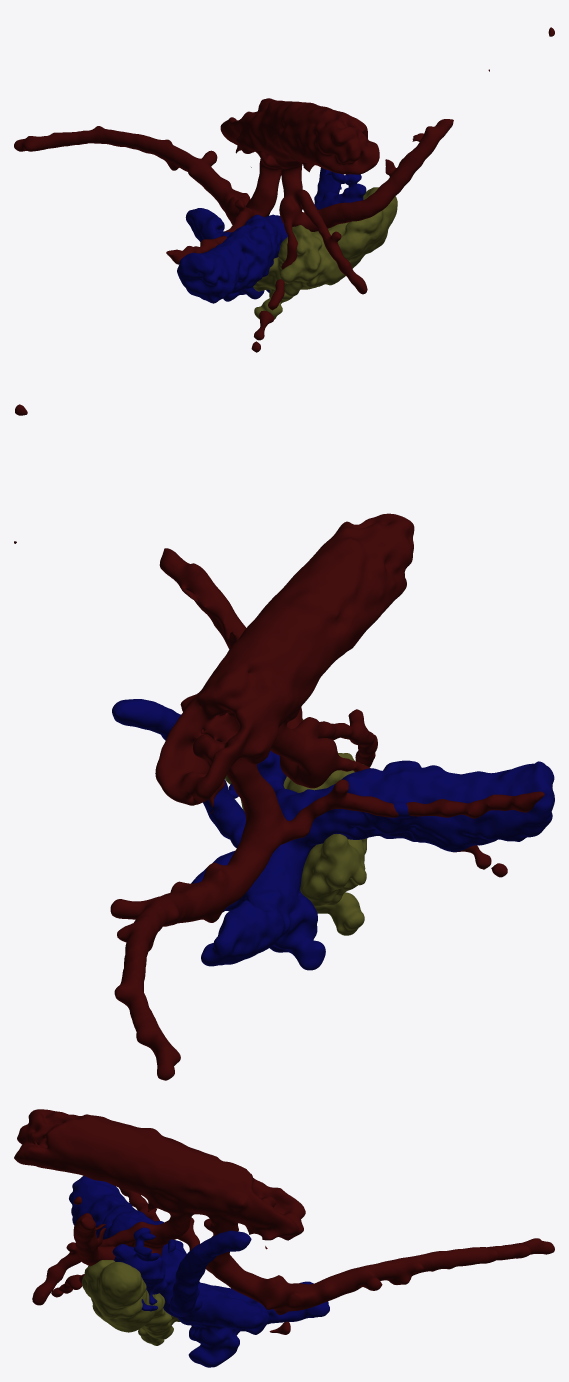
3 renders of one model, top to bottom at view 1: azimuth 30°, elevation 25°; view 2: azimuth 150°, elevation 25°; view 3: azimuth 270°, elevation 25°, orthographic. The views are drawn at different scales.
Visible parts, largest first — view 1: grp213095, grp284985, grp1; view 2: grp213095, grp284985, grp1; view 3: grp213095, grp284985, grp1.
Part boxes in pixels (x1,y1,x2,y2): grp213095: (14,27,554,352); grp284985: (177,167,366,303); grp1: (253,187,397,319); grp213095: (14,404,544,1080); grp284985: (112,699,554,970); grp1: (225,719,367,935); grp213095: (14,1109,554,1334); grp284985: (69,1176,329,1367); grp1: (82,1260,180,1345).
Bounding box in the file's own units: 0.1703 × 0.1241 × 0.2021.
